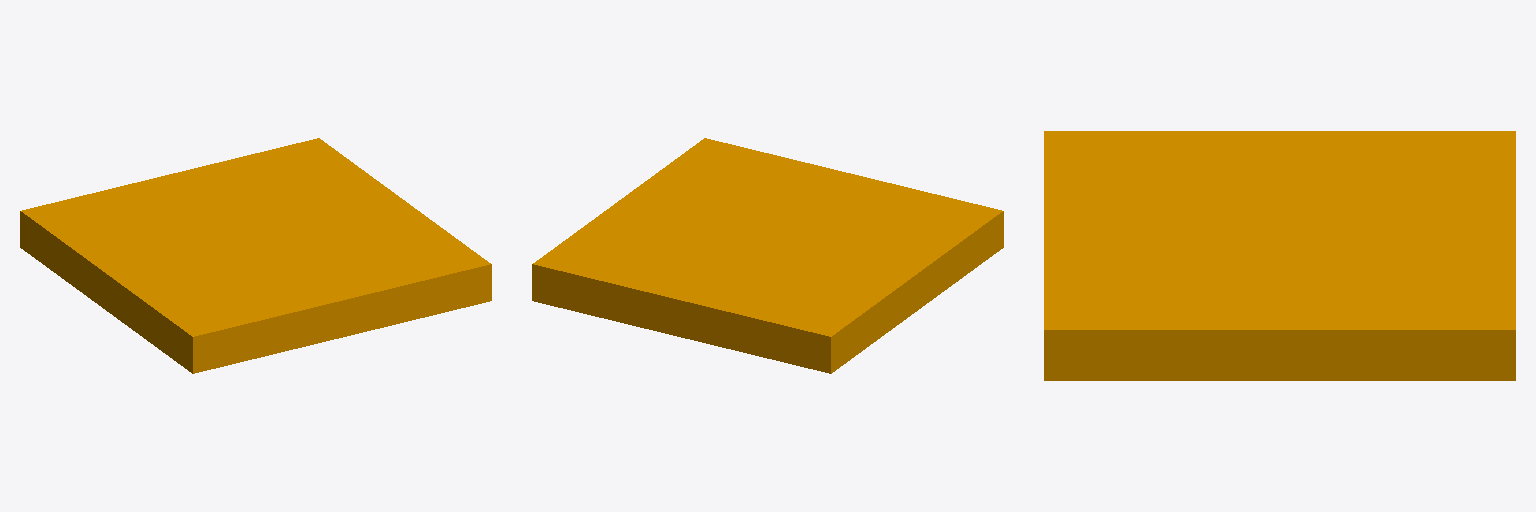
URDF robot description (ar_2020):
<robot name="ar_2020">

	<!-- * * * Link Definitions * * * -->

    <link name="simple_box_base_link">
 	    <inertial>
            <origin xyz="0 0 0" rpy="0 0 0"/>
            <mass value="1.0" />
            <inertia ixx="0.0741666666667" ixy="0.0" ixz="0.0" iyy="0.0585416666667" iyz="0.0" izz="0.0260416666667"/>
        </inertial>
        <collision>
            <origin xyz="0 0 0" rpy="0 0 0"/>
            <geometry>
                <box size="0.2 0.2 0.2"/>
            </geometry>
        </collision>
        <visual>
            <origin rpy="0.0 0 0" xyz="0 0 0"/>
            <geometry>
                <!--<box size="0.8 0.8 0.2"/>-->
                <mesh filename="package://mybot_description/meshes/ar_2020_v2.dae"/>
            </geometry>
        </visual>
    </link>
    
    <gazebo reference="simple_box_base_link">
        <kp>100000.0</kp>
        <kd>100000.0</kd>
        <mu1>0.1</mu1>
        <mu2>0.1</mu2>
        <fdir1>1 0 0</fdir1>
    </gazebo>

</robot>

--- What the picture shows (computed from the rendered views, not written in the file) ---
The picture shows the robot from 3 angles, left to right: view 1: azimuth 30°, elevation 25°; view 2: azimuth 150°, elevation 25°; view 3: azimuth 270°, elevation 25°; orthographic projection.
Model ar_2020 with 1 links and 0 joints (none), rooted at simple_box_base_link, posed every joint at zero.
Links seen in each view (by area): view 1: simple_box_base_link; view 2: simple_box_base_link; view 3: simple_box_base_link.
Boxes of the visible links, left/top/right/bottom form: simple_box_base_link: left=20, top=138, right=491, bottom=373; simple_box_base_link: left=532, top=138, right=1003, bottom=373; simple_box_base_link: left=1044, top=131, right=1515, bottom=380.
Size in the robot's own frame: 0.09 by 0.09 by 0.0107 metres.
Meshes: 1 distinct files referenced, 1 mesh visuals loaded (1 Collada DAE).